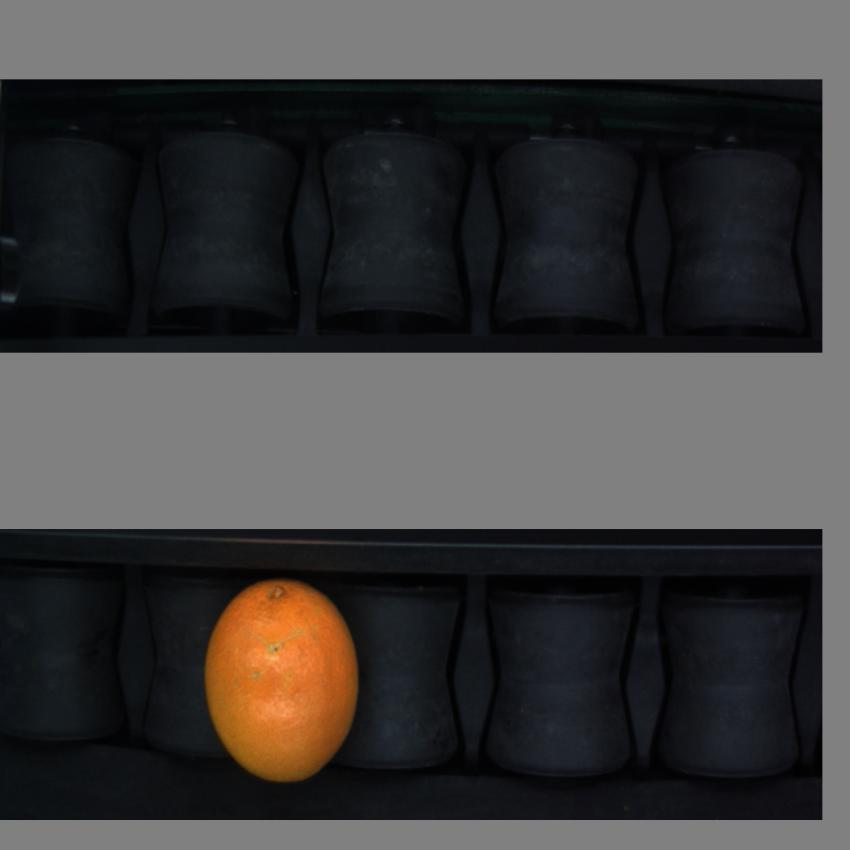Buen estado: (200, 562, 365, 785)
